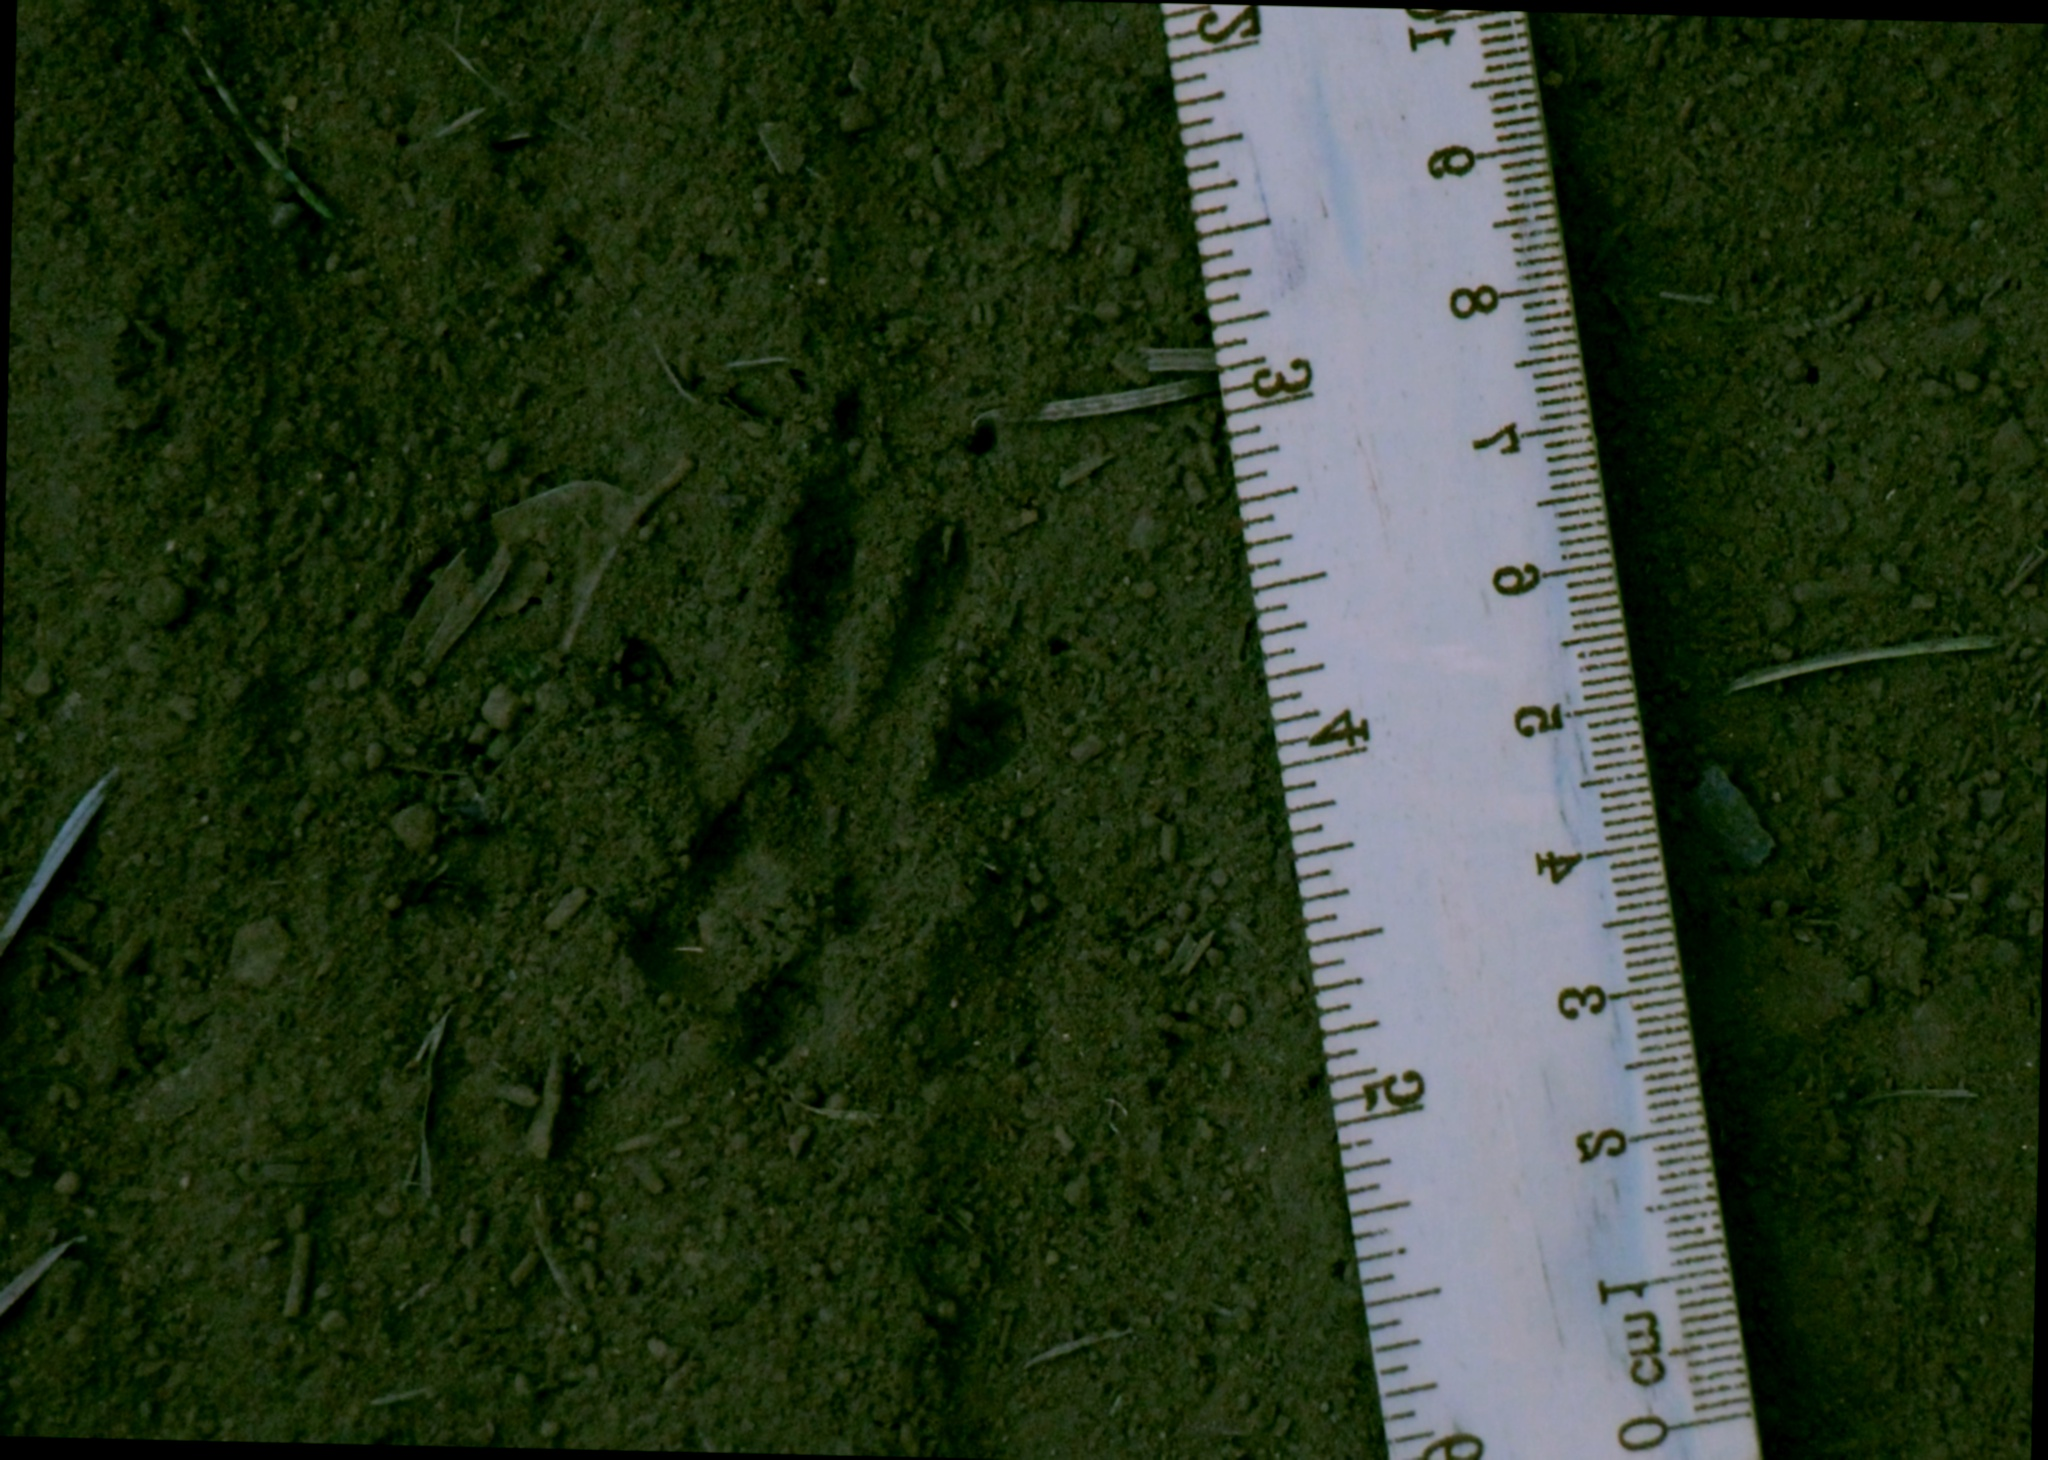ecureuil: (498, 324, 1131, 1082)
